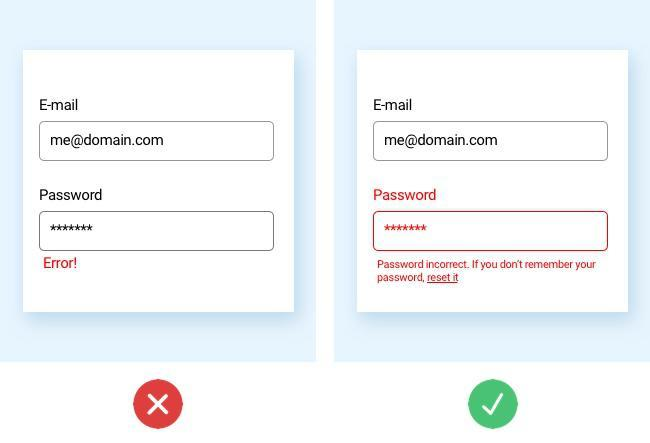checkbox: (467, 379, 519, 429), (134, 379, 184, 428)
input: (372, 212, 608, 253), (40, 211, 275, 252), (373, 122, 608, 163), (40, 123, 276, 160)
label: (374, 258, 602, 291), (39, 184, 114, 208), (368, 94, 429, 119), (32, 90, 90, 116), (370, 187, 445, 207), (40, 252, 84, 276)
